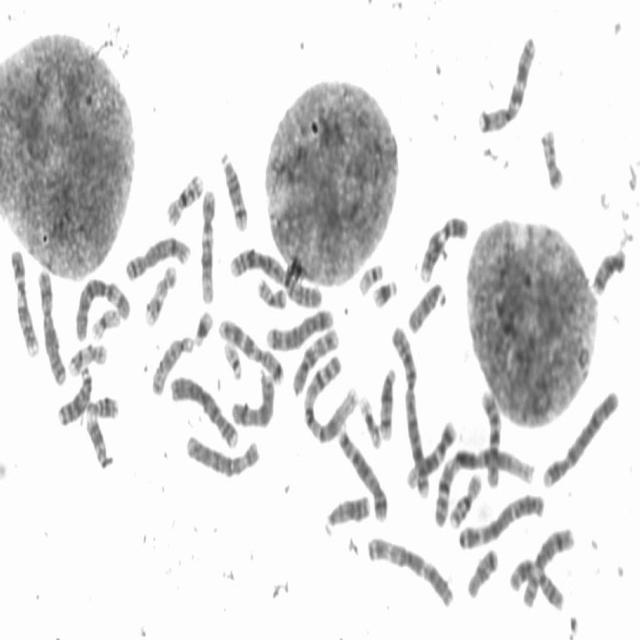A1: (430, 438, 537, 531), (299, 348, 360, 445)
A2: (388, 318, 432, 498), (226, 241, 323, 310)
A3: (364, 530, 457, 610), (456, 486, 546, 551)
B4: (540, 382, 621, 490), (167, 368, 241, 452)
B5: (336, 423, 390, 523), (264, 302, 335, 352)
C10: (289, 319, 340, 398), (477, 382, 504, 490)
C11: (506, 550, 567, 612), (82, 390, 120, 469)
C12: (403, 413, 458, 491), (197, 183, 217, 305)
C6: (72, 272, 132, 342), (183, 428, 262, 479)
C7: (474, 28, 538, 136), (216, 312, 286, 386)
C8: (520, 520, 576, 610), (122, 228, 192, 282)
C9: (416, 207, 471, 284), (7, 243, 40, 358)
D13: (54, 360, 94, 426), (321, 488, 372, 534)
D14: (217, 145, 250, 233), (376, 359, 398, 442)
D15: (148, 329, 196, 397), (404, 276, 447, 335)
E16: (163, 166, 206, 228), (446, 468, 484, 529)
E17: (142, 258, 178, 328), (65, 337, 109, 378)
E18: (589, 240, 628, 298), (464, 540, 501, 600)
F19: (356, 389, 383, 449), (88, 301, 122, 341)
F20: (538, 122, 566, 193), (254, 272, 288, 310)
G21: (370, 272, 399, 310), (191, 304, 214, 349)
G22: (355, 256, 385, 297), (221, 337, 244, 380)
X: (34, 262, 68, 387), (228, 365, 276, 430)
